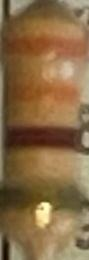Brown: (5, 124, 82, 154)
Orange: (5, 80, 83, 113), (2, 36, 86, 58)
Side-Gold: (3, 186, 84, 213)
